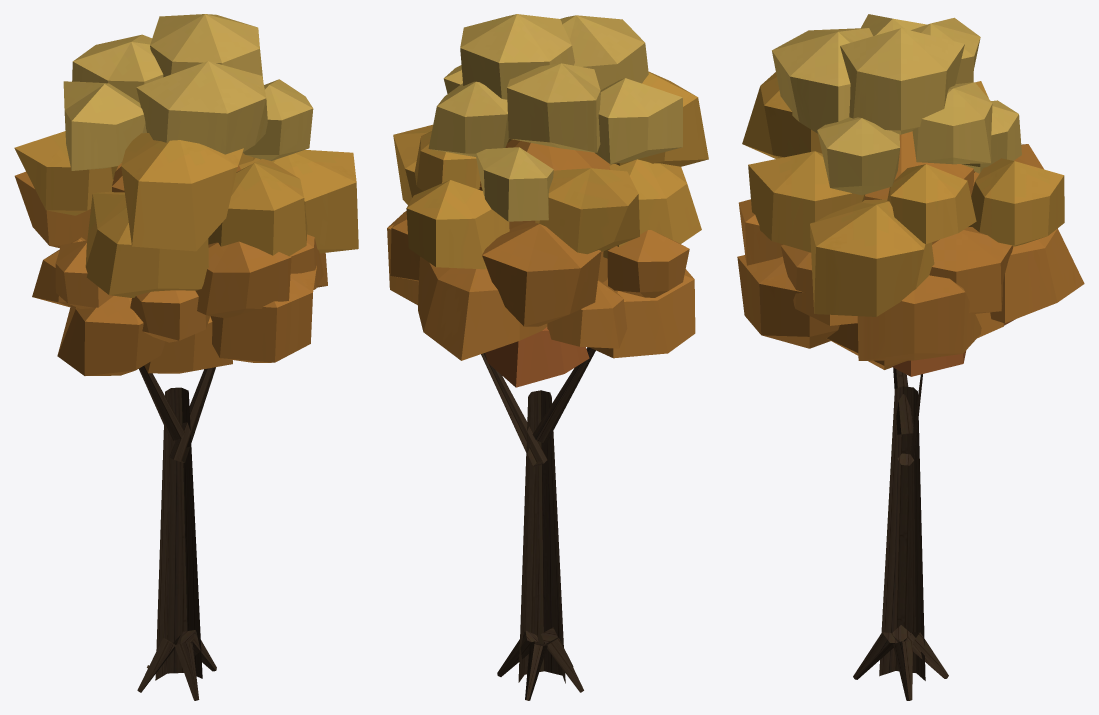
File: tree_broadleaf_03_autumn.glb
The picture shows the model from 3 angles, left to right: view 1: azimuth 30°, elevation 25°; view 2: azimuth 150°, elevation 25°; view 3: azimuth 270°, elevation 25°; orthographic projection.
Parts seen in each view (by area): view 1: tree_broadleaf_03_autumn; view 2: tree_broadleaf_03_autumn; view 3: tree_broadleaf_03_autumn.
Boxes of the visible parts, x1,y1,x2,y2 form: tree_broadleaf_03_autumn: (14, 14, 358, 700); tree_broadleaf_03_autumn: (387, 14, 708, 700); tree_broadleaf_03_autumn: (737, 14, 1084, 700).
Bounding box in the file's own units: 3.62 × 7.83 × 3.69.
5 materials, 5 textured.
